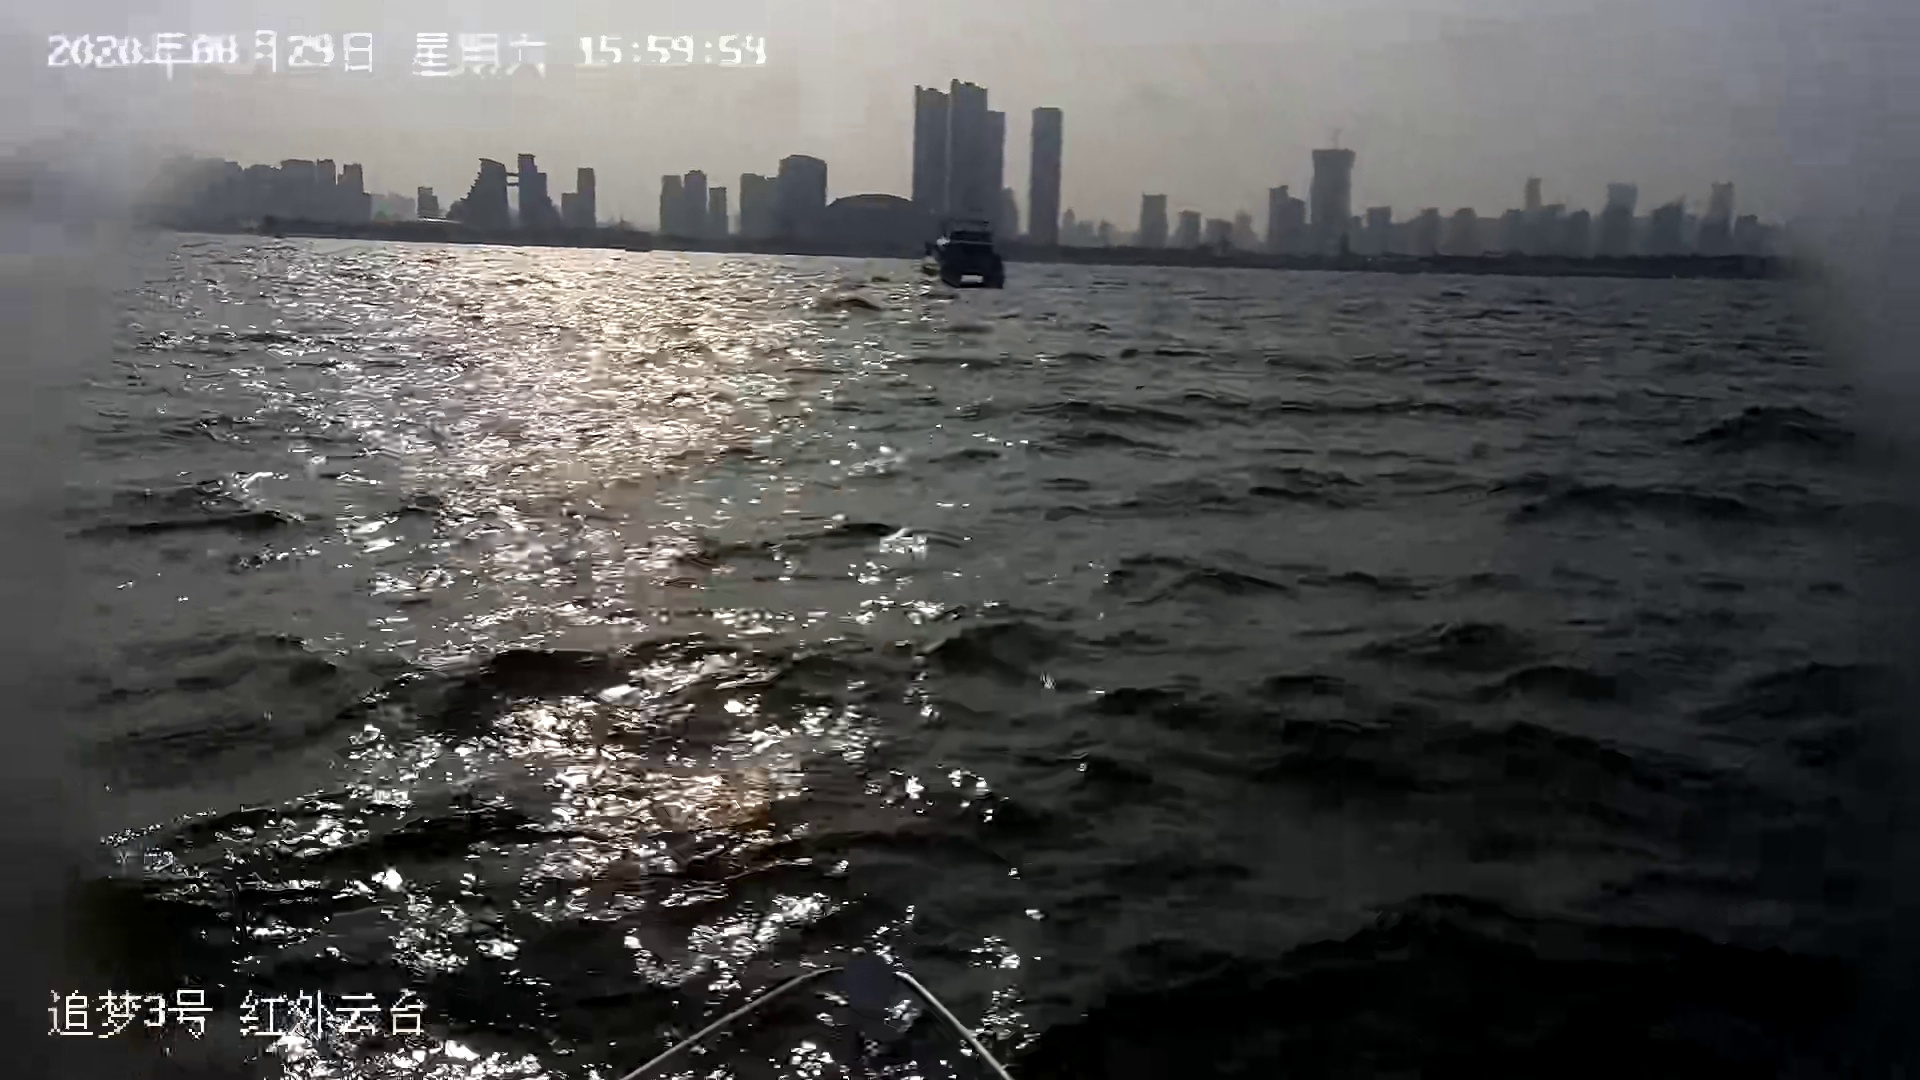barrier: (926, 214, 1006, 291)
coast: (1, 69, 1888, 272)
